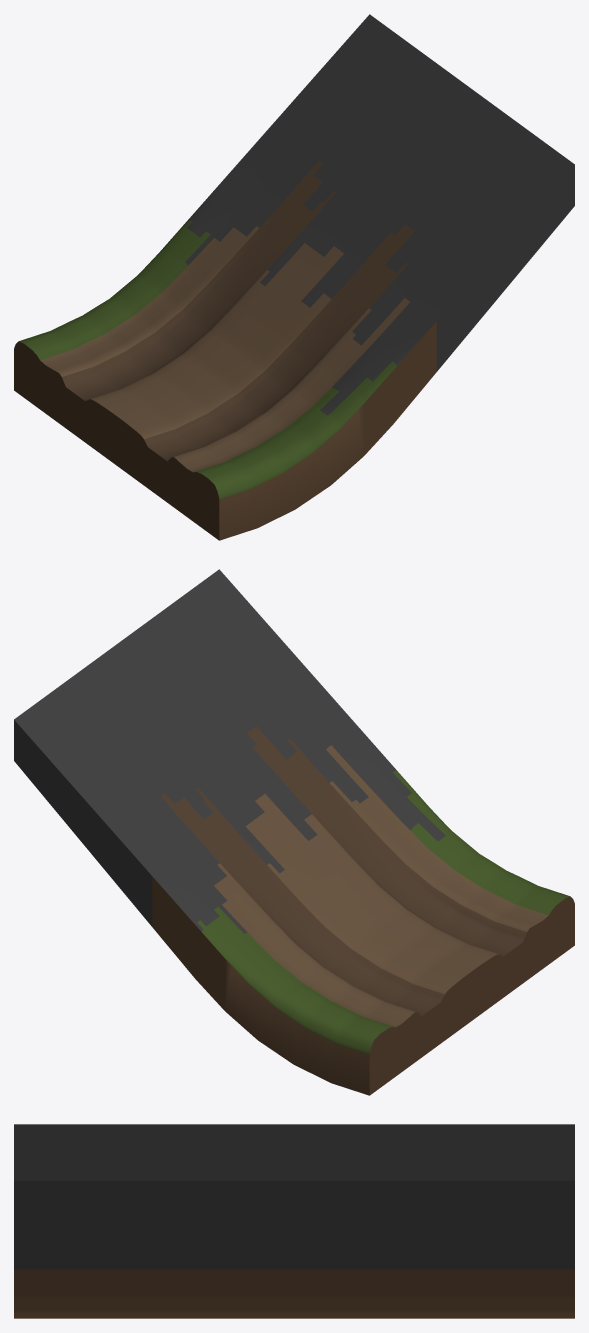
3 views of the same model, one above another, from view 1: azimuth 30°, elevation 25°; view 2: azimuth 150°, elevation 25°; view 3: azimuth 270°, elevation 25° (orthographic). The views are drawn at different scales.
Visible parts, largest first — view 1: d3t; view 2: d3t; view 3: d3t.
Boxes of the visible parts, x1=… form: d3t: x1=14, y1=14, x2=574, y2=540; d3t: x1=14, y1=569, x2=574, y2=1095; d3t: x1=14, y1=1124, x2=574, y2=1318.
Bounding box in the file's own units: 9 × 7 × 9.
